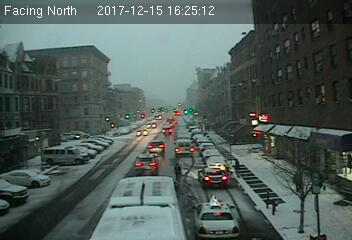bicycle: (174, 162, 181, 182)
bus: (90, 176, 185, 240)
car: (193, 197, 241, 236), (197, 167, 227, 185), (135, 154, 159, 172), (206, 156, 229, 170), (147, 140, 164, 152), (161, 125, 174, 134), (135, 129, 148, 137)
truck: (174, 138, 197, 158)
